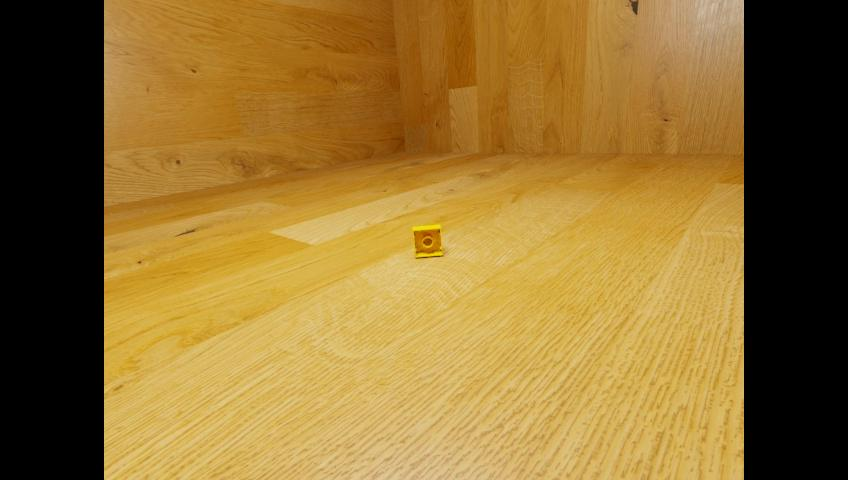2x2_yellow: (412, 224, 441, 256)
